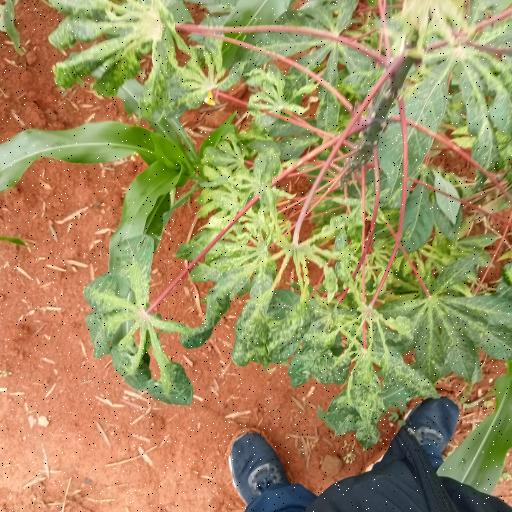Cassava_Mosaic: (84, 242, 208, 398), (194, 235, 328, 359), (40, 0, 186, 108), (388, 256, 507, 384)
